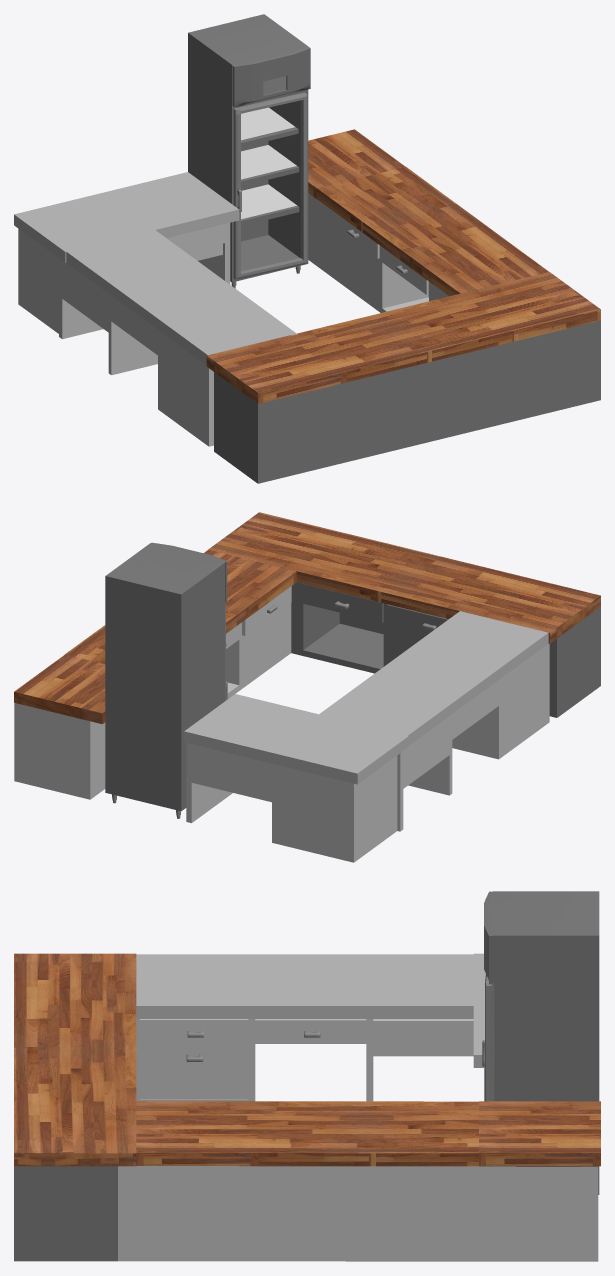
The model's file is ER_Kitchen.fbx.
3 views of the same model, one above another, from view 1: azimuth 30°, elevation 25°; view 2: azimuth 150°, elevation 25°; view 3: azimuth 270°, elevation 25° (orthographic). The views are drawn at different scales.
Visible parts, largest first — view 1: handle.002, counter.009, handle.007, Cube, Cube.001; view 2: counter.009, handle.002, Cube, handle.007; view 3: handle.007, counter.009, handle.002, Cube, Cube.001.
Boxes of the visible parts, box(x1,y1,x2,y2) form: handle.002: box(206, 272, 600, 483); counter.009: box(14, 172, 297, 446); handle.007: box(308, 129, 548, 312); Cube: box(188, 14, 310, 288); Cube.001: box(233, 92, 307, 279); counter.009: box(184, 611, 549, 862); handle.002: box(208, 512, 600, 717); Cube: box(105, 542, 227, 818); handle.007: box(14, 549, 296, 799); handle.007: box(118, 1101, 600, 1261); counter.009: box(136, 953, 485, 1101); handle.002: box(14, 953, 136, 1261); Cube: box(484, 891, 599, 1194); Cube.001: box(482, 974, 494, 1101).
Bounding box in the file's own units: 901 × 573 × 1119.
